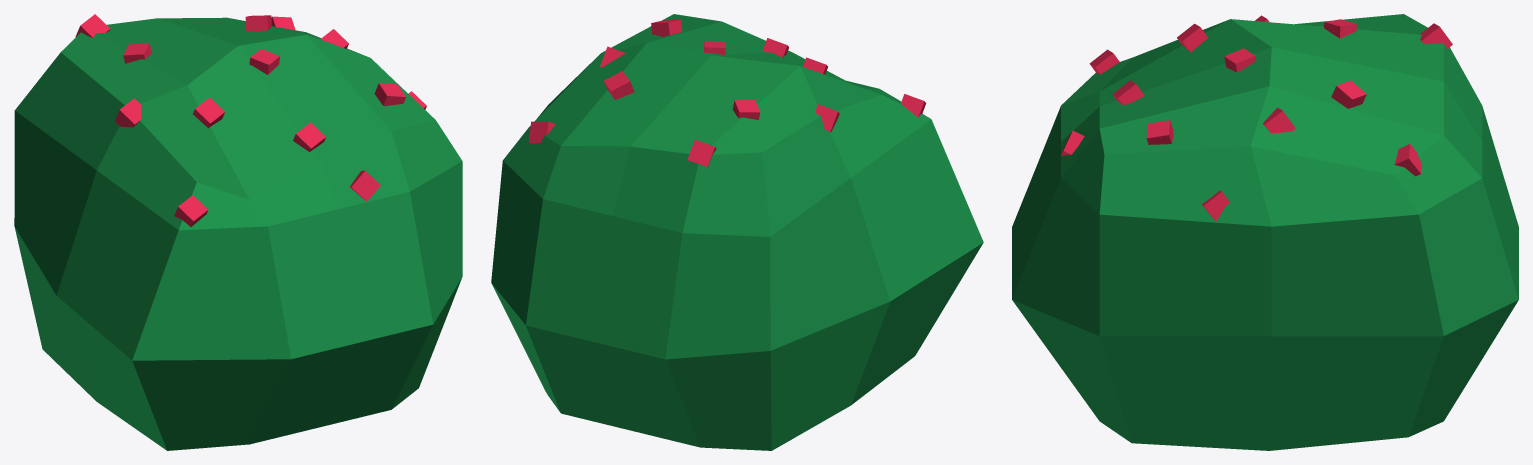
File: BerryBush2.fbx
3 views of the same model, side by side, from view 1: azimuth 30°, elevation 25°; view 2: azimuth 150°, elevation 25°; view 3: azimuth 270°, elevation 25° (orthographic). The views are drawn at different scales.
Visible parts, largest first — view 1: Leaves, Berry; view 2: Leaves, Berry; view 3: Leaves, Berry.
Boxes of the visible parts, x1=… form: Leaves: x1=14, y1=17, x2=462, y2=450; Berry: x1=75, y1=14, x2=426, y2=226; Leaves: x1=491, y1=14, x2=983, y2=450; Berry: x1=528, y1=20, x2=926, y2=167; Leaves: x1=1012, y1=14, x2=1518, y2=450; Berry: x1=1061, y1=15, x2=1452, y2=221.
Size of the model in its own units: 252 by 216 by 294.
